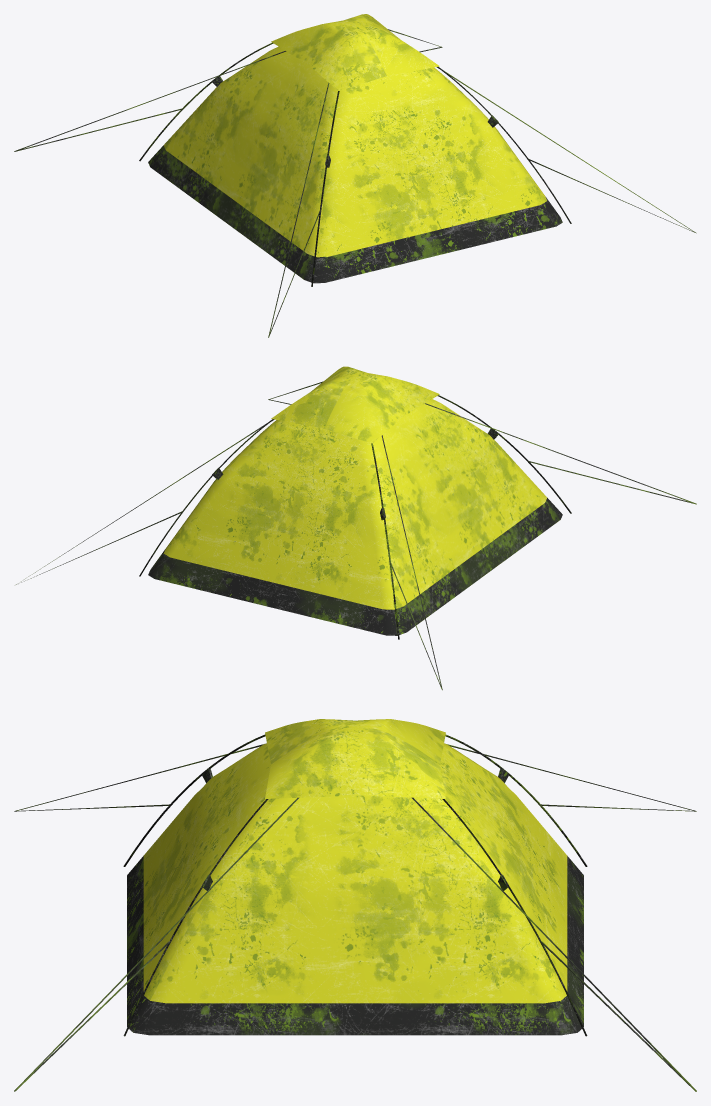
Rendered from tent.glb.
The picture shows the model from 3 angles, top to bottom: view 1: azimuth 30°, elevation 25°; view 2: azimuth 150°, elevation 25°; view 3: azimuth 270°, elevation 25°; orthographic projection. The views are drawn at different scales.
Parts seen in each view (by area): view 1: Tent; view 2: Tent; view 3: Tent.
Part boxes in pixels (x1,y1,x2,y2): Tent: [14, 14, 696, 337]; Tent: [16, 366, 696, 690]; Tent: [14, 719, 696, 1091].
Size of the model in its own units: 10.77 by 4.04 by 11.09.
1 material, 1 textured.
